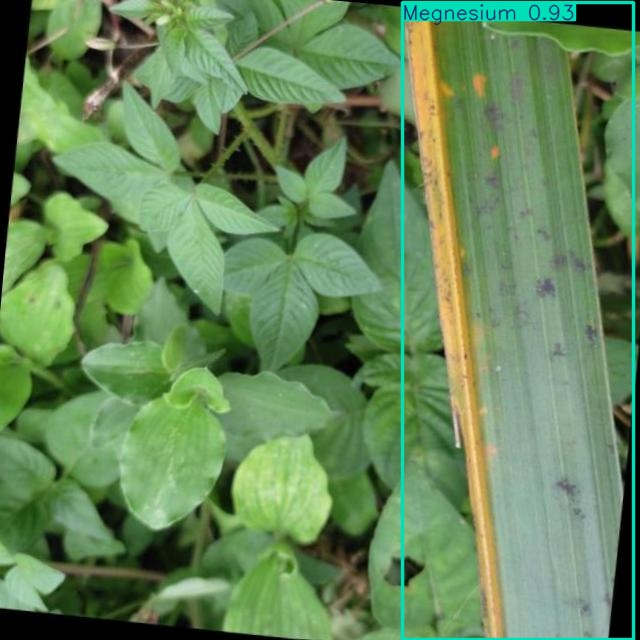Megnesium: (403, 2, 634, 640)
